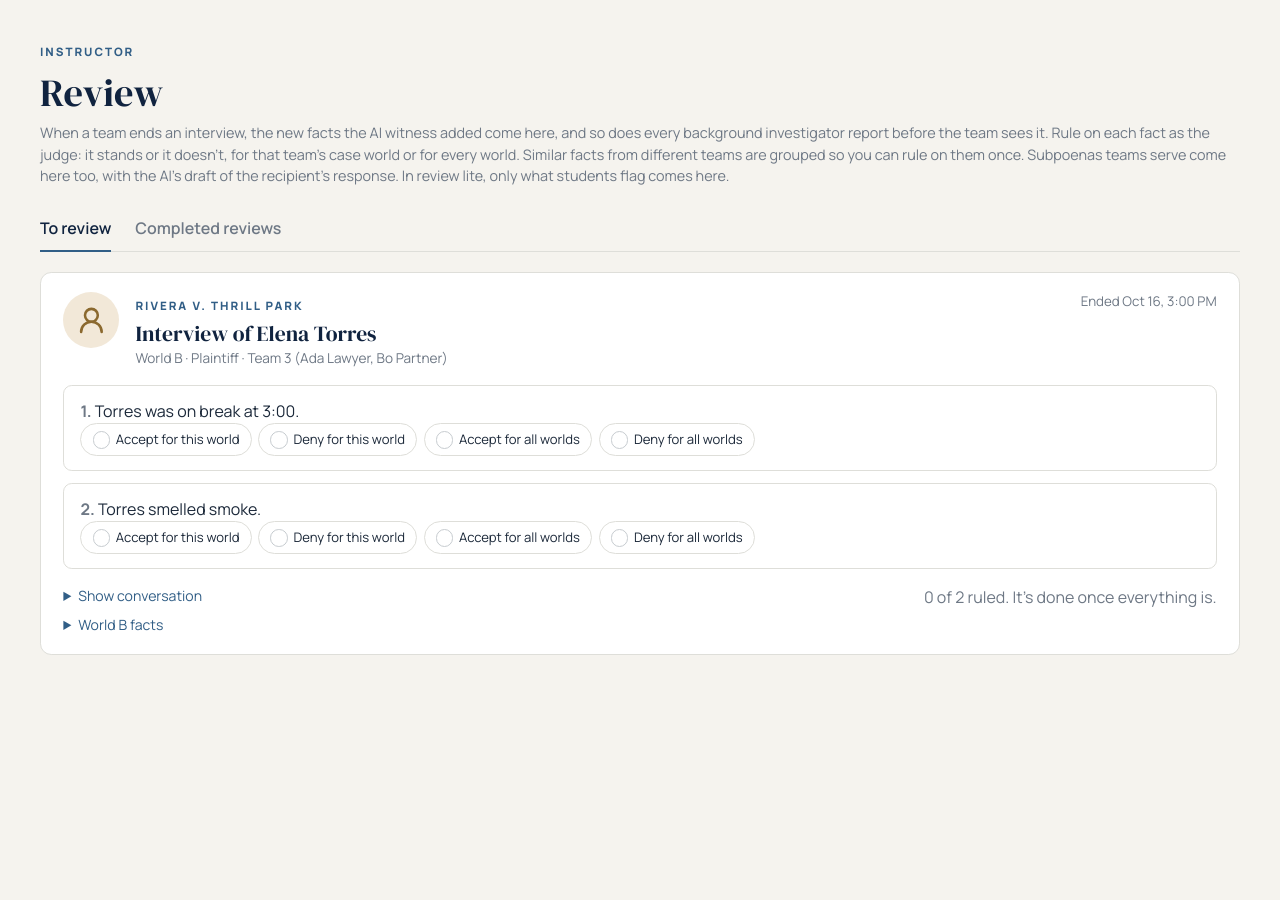
ReviewPage › opens the conversation behind a review on request
Click the heading "Show conversation": (140, 596) x1=78 y1=586 x2=202 y2=605
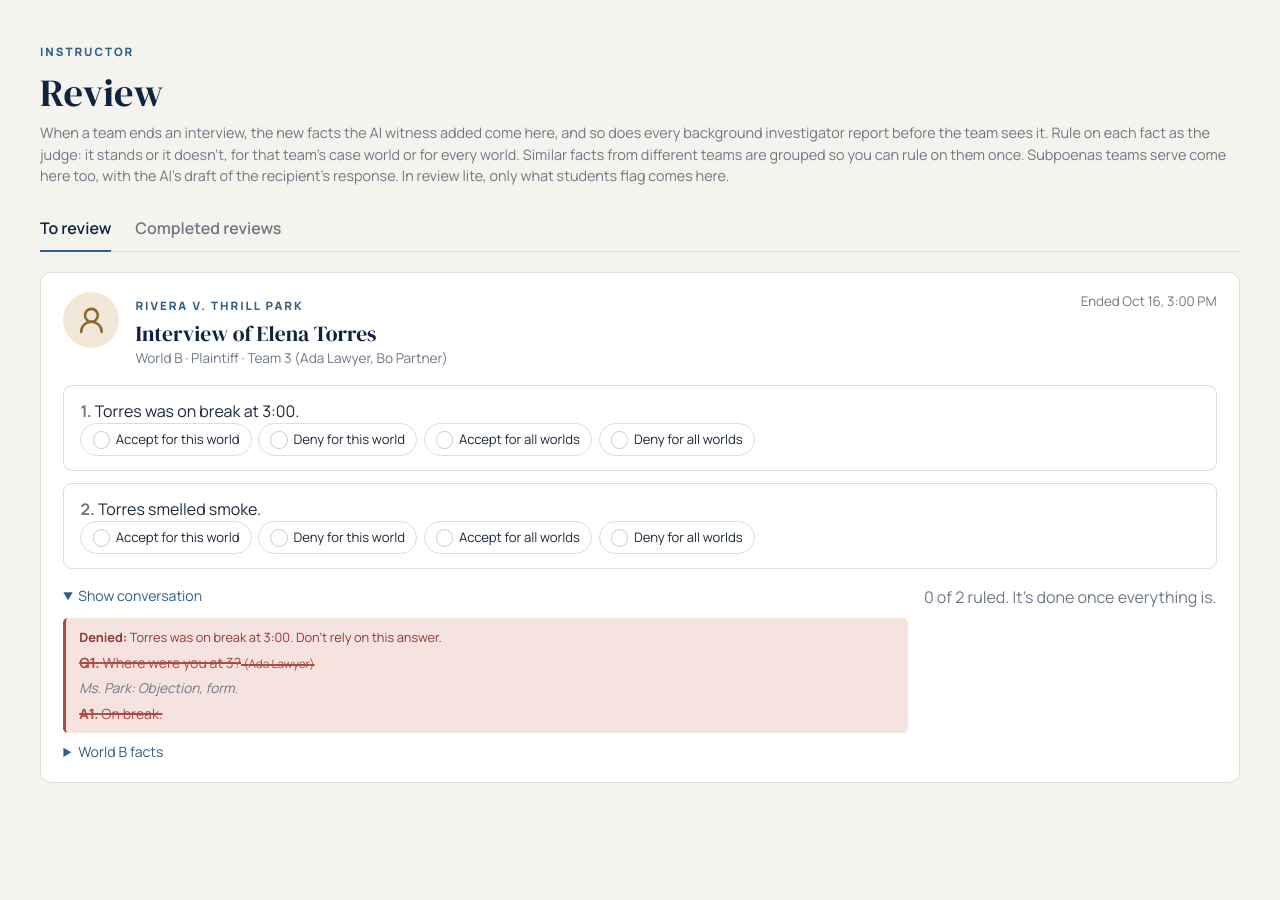
Expected: the text "Q1. Where were you at 3? (Ada Lawyer)" is shown, x1=79 y1=653 x2=392 y2=672
Expected: the text "Ms. Park: Objection, form." is shown, x1=79 y1=678 x2=238 y2=696
Expected: the text "Denied:" is shown, x1=79 y1=628 x2=127 y2=646
